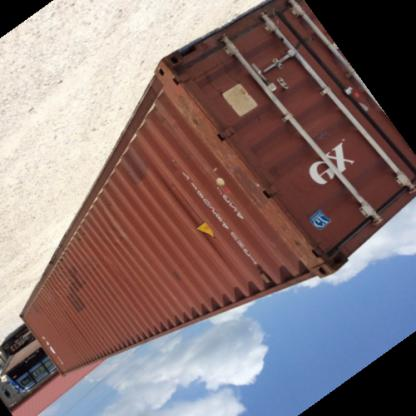Damage: (172, 100, 256, 197), (256, 193, 334, 292)
